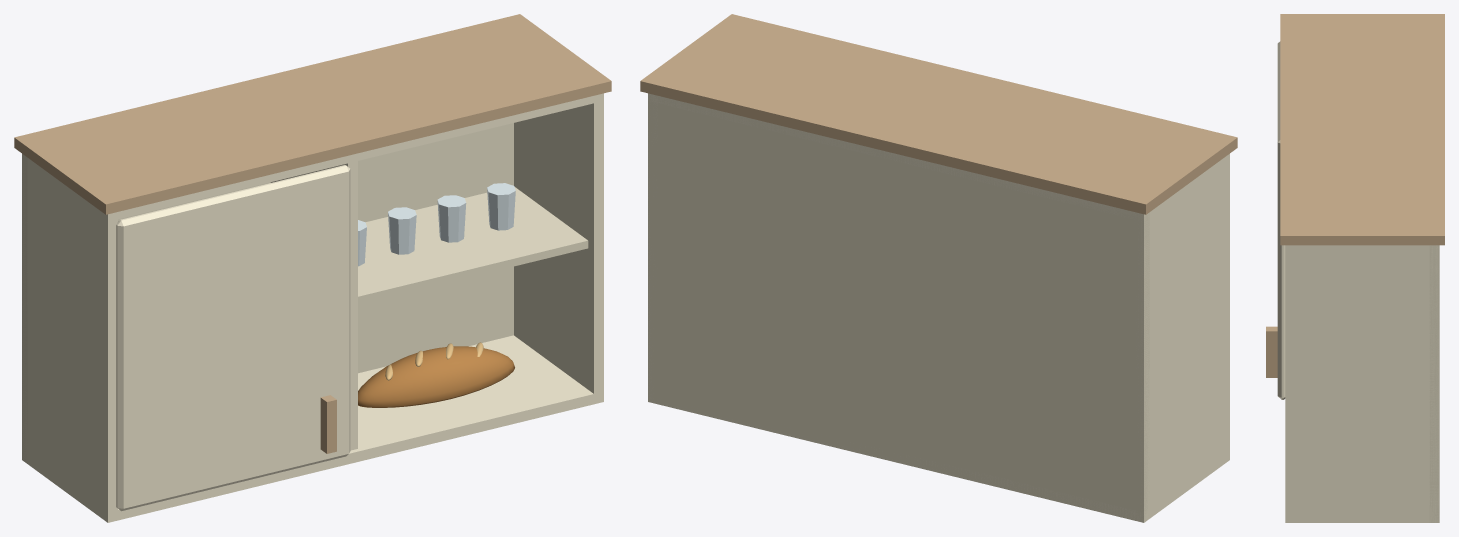
Rendered from kitchen_cabinet.glb.
The picture shows the model from 3 angles, left to right: view 1: azimuth 30°, elevation 25°; view 2: azimuth 150°, elevation 25°; view 3: azimuth 270°, elevation 25°; orthographic projection. The views are drawn at different scales.
Visible parts, largest first — view 1: kitchen_cabinet; view 2: kitchen_cabinet; view 3: kitchen_cabinet.
Part boxes in pixels (x1,y1,x2,y2): kitchen_cabinet: [14, 14, 611, 522]; kitchen_cabinet: [640, 14, 1237, 522]; kitchen_cabinet: [1266, 14, 1444, 522].
Size of the model in its own units: 1.02 by 0.62 by 0.3475.
